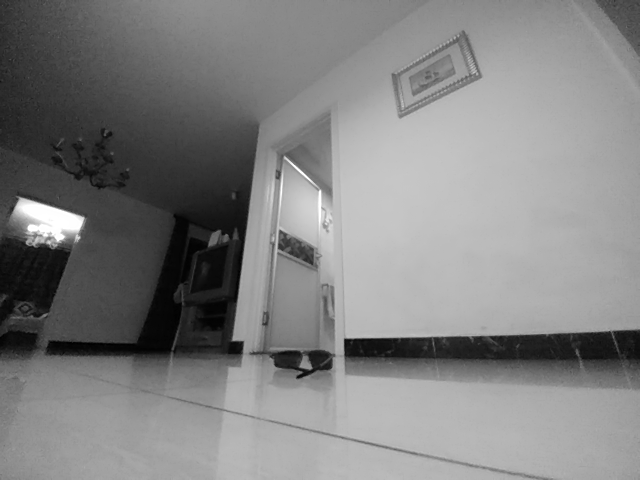curtain: (136, 214, 190, 351)
others: (268, 350, 336, 379)
